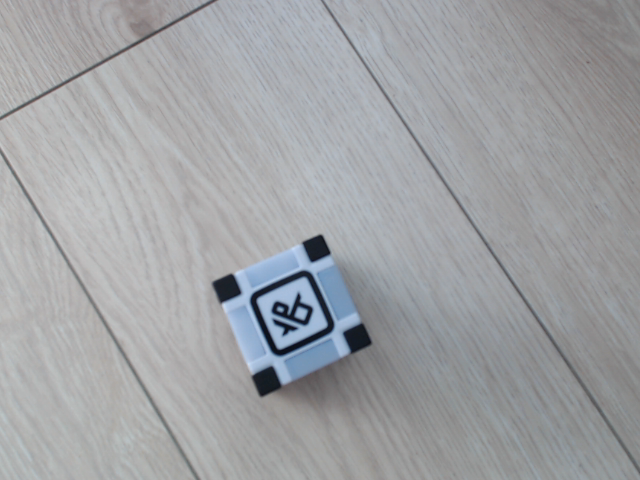block: (211, 230, 375, 400)
